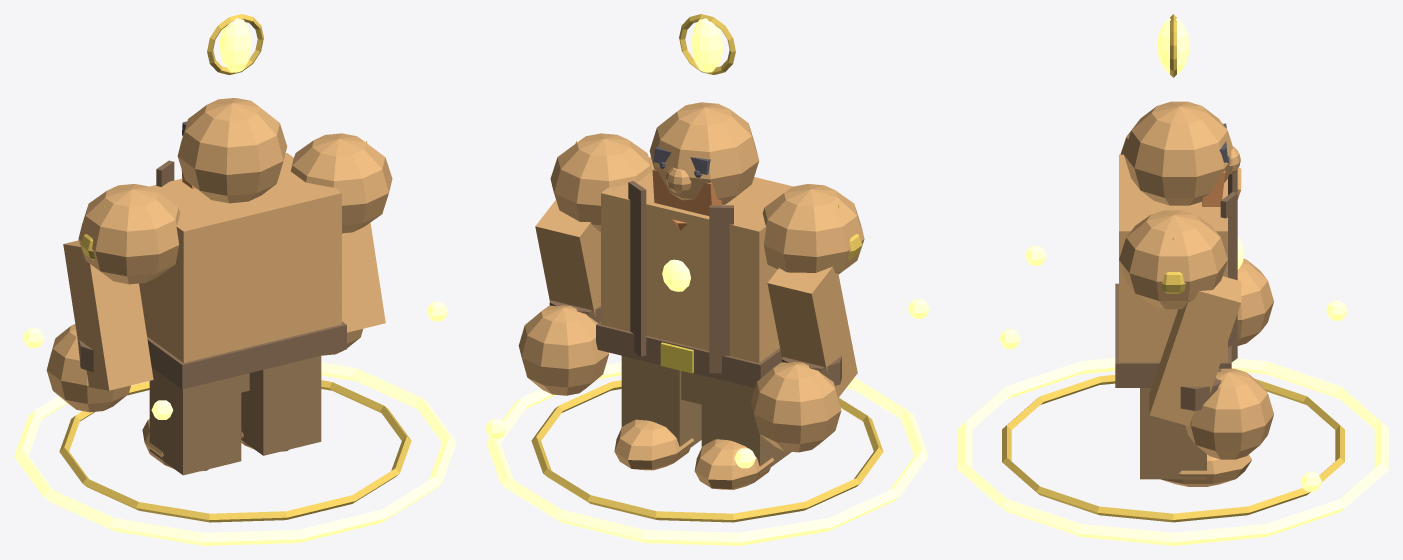
The model's file is hero_giant.glb.
The picture shows the model from 3 angles, left to right: view 1: azimuth 30°, elevation 25°; view 2: azimuth 150°, elevation 25°; view 3: azimuth 270°, elevation 25°; orthographic projection.
Visible parts, largest first — view 1: hero_giant; view 2: hero_giant; view 3: hero_giant.
Part boxes in pixels (box(x1,y1,x2,y2)): hero_giant: box(14, 14, 456, 545); hero_giant: box(485, 14, 929, 545); hero_giant: box(958, 14, 1388, 545).
Size of the model in its own units: 4.08 by 4.55 by 3.98.
